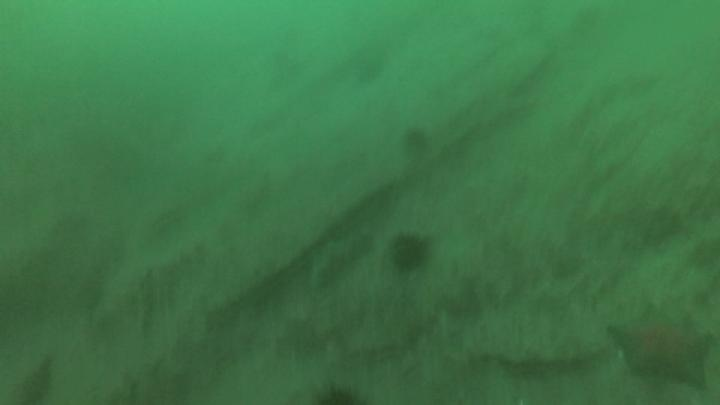echinus: (387, 230, 432, 274), (348, 46, 389, 88), (311, 381, 364, 405), (399, 124, 433, 158)
holothurian: (306, 226, 375, 289)
starfish: (606, 301, 716, 390)
